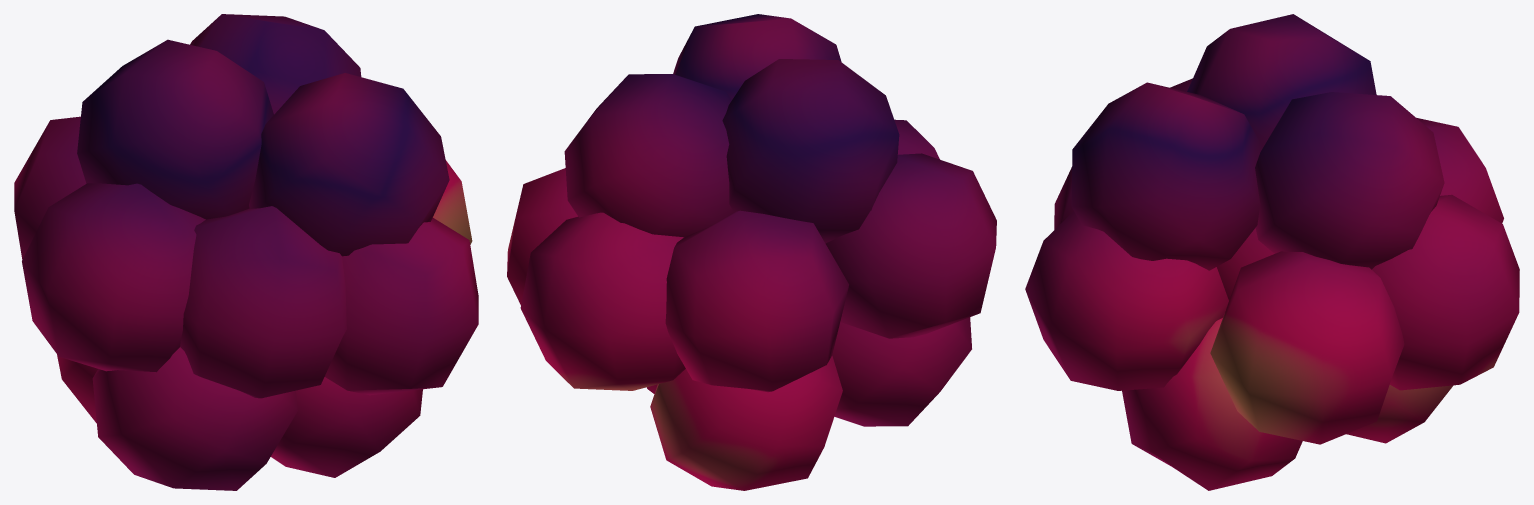
Rendered from Strawberry.fbx.
3 renders of one model, left to right at view 1: azimuth 30°, elevation 25°; view 2: azimuth 150°, elevation 25°; view 3: azimuth 270°, elevation 25°, orthographic. The views are drawn at different scales.
Visible parts, largest first — view 1: Strawberry; view 2: Strawberry; view 3: Strawberry.
Part boxes in pixels (bbox=[...]): Strawberry: bbox=[14, 14, 478, 490]; Strawberry: bbox=[507, 14, 996, 490]; Strawberry: bbox=[1025, 14, 1519, 490].
Bounding box in the file's own units: 0.0741 × 0.0716 × 0.0639.
Materials: 1 (1 with a texture image).
